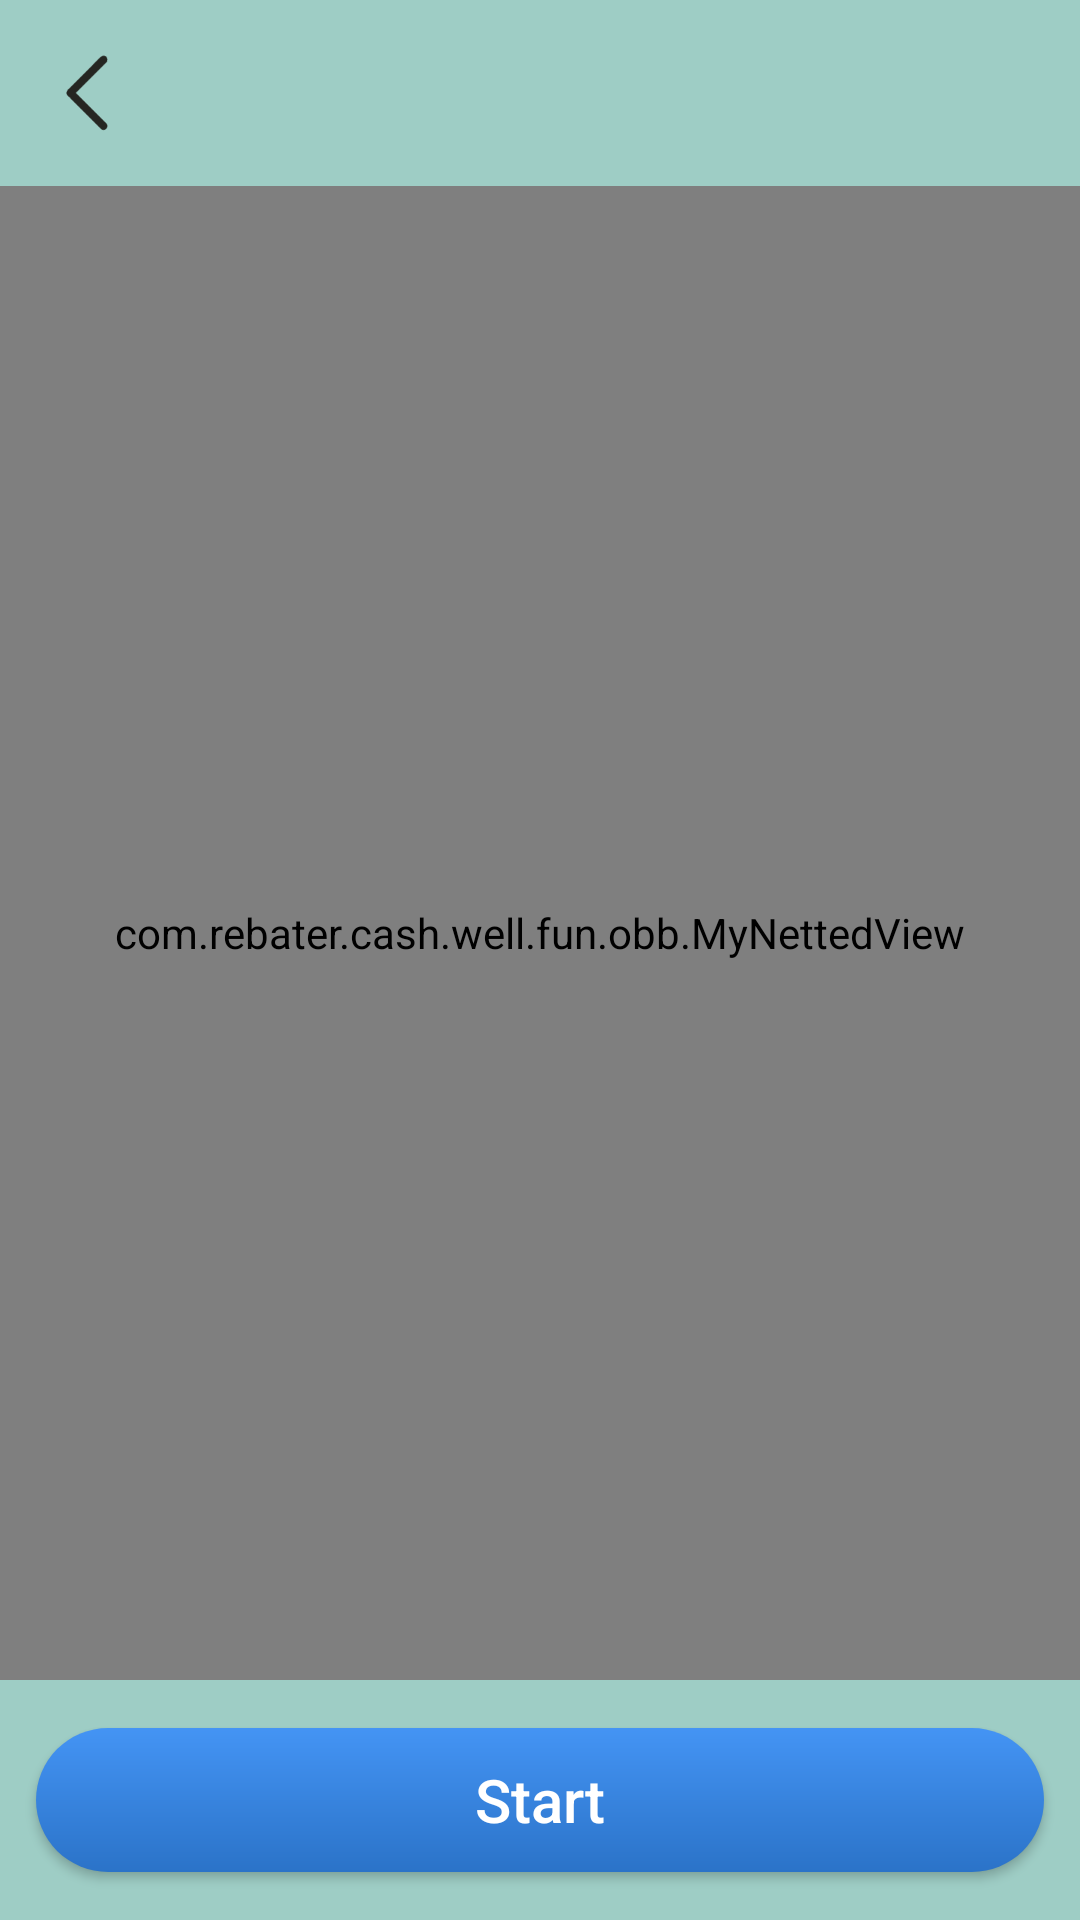

Named icons in this screenshot (1080*1920) and their centers, (x,y):
back: (87,92)
